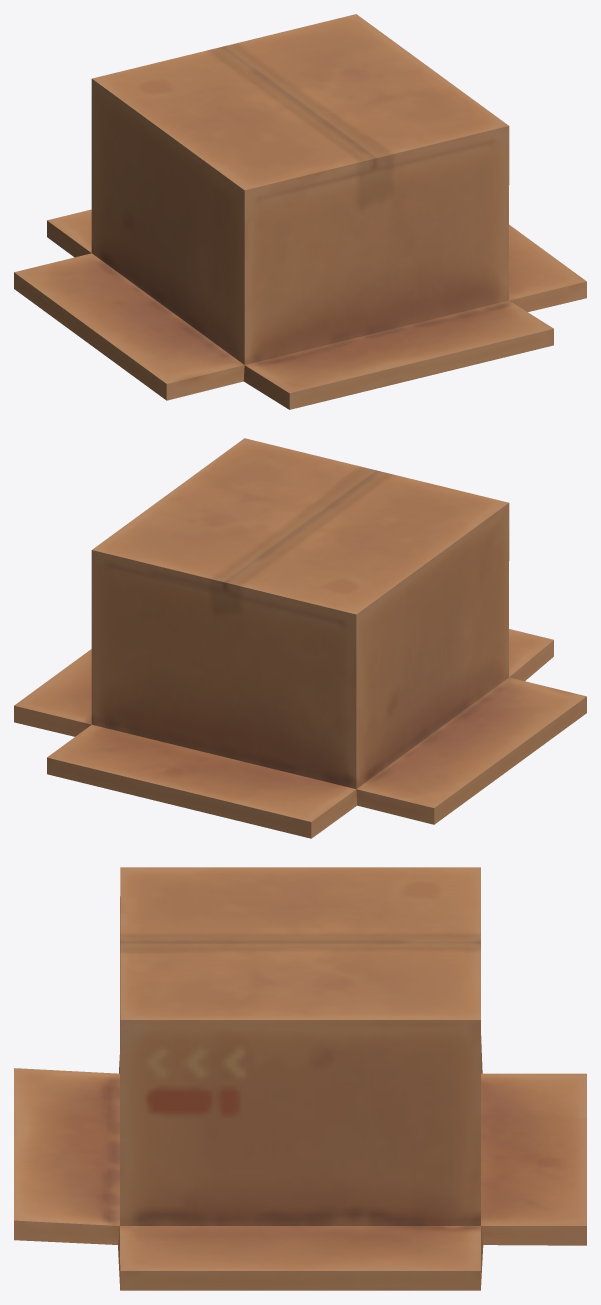
File: Pfb_PaperBox__5.fbx
3 views of the same model, one above another, from view 1: azimuth 30°, elevation 25°; view 2: azimuth 150°, elevation 25°; view 3: azimuth 270°, elevation 25° (orthographic). The views are drawn at different scales.
Visible parts, largest first — view 1: Mat_PaperBox_01_01; view 2: Mat_PaperBox_01_01; view 3: Mat_PaperBox_01_01.
Boxes of the visible parts, x1,y1,x2,y2 form: Mat_PaperBox_01_01: (14,14,586,409); Mat_PaperBox_01_01: (14,438,586,838); Mat_PaperBox_01_01: (14,867,586,1290).
Bounding box in the file's own units: 1.57 × 0.6813 × 1.57.
Materials: 1 (1 with a texture image).
